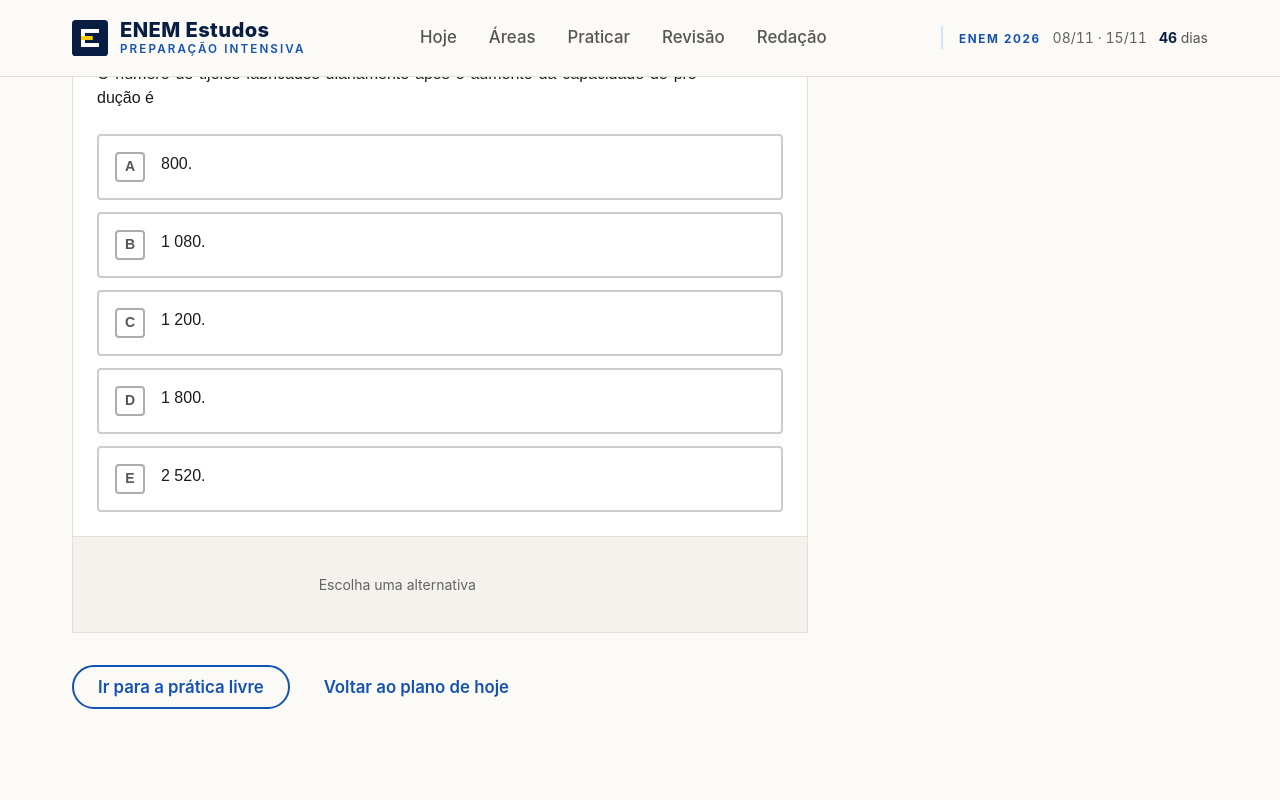
it: procedência do conteúdo › marca a questão oficial com o selo e mostra a referência da prova
(page scrolled)
Click the button named "Alternativa D" at (200, 396), box x1=97 y1=368 x2=783 y2=434
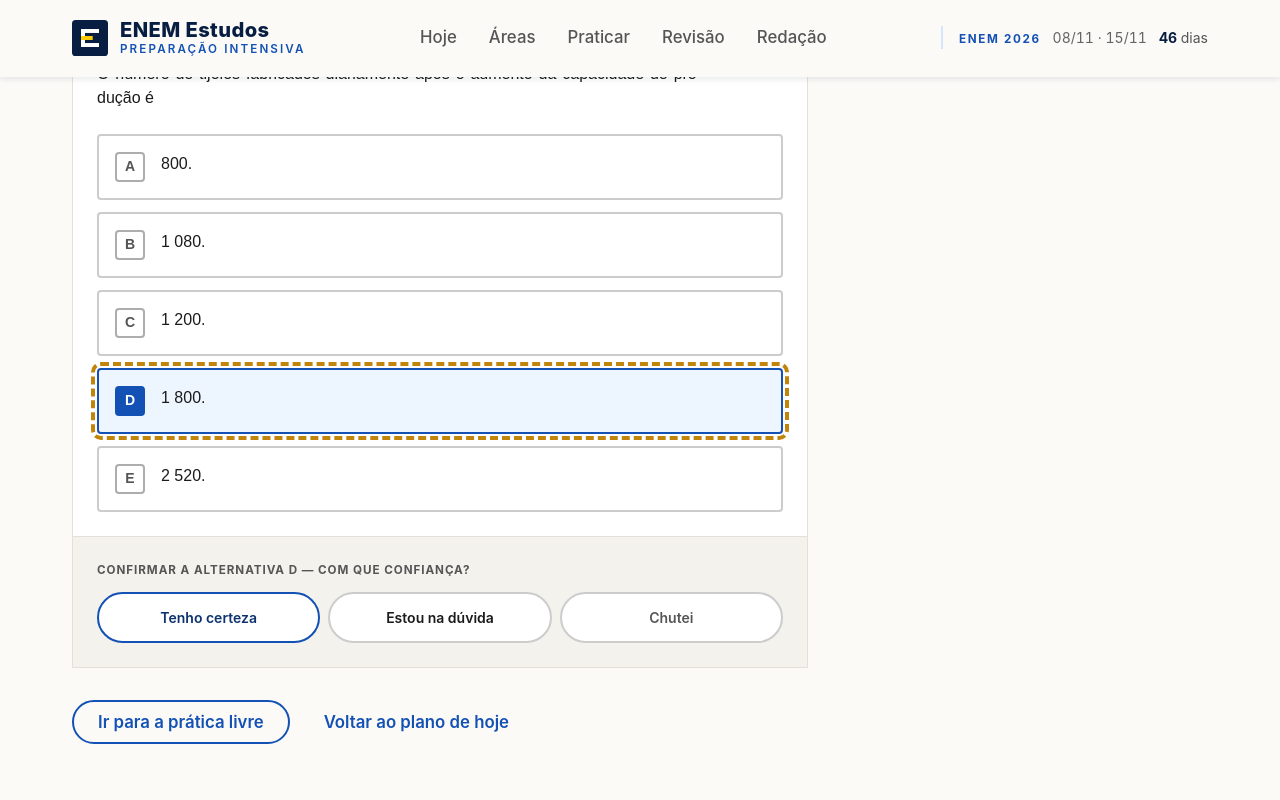
Click the button "Tenho certeza" at (209, 617), box x1=97 y1=592 x2=320 y2=643
(page scrolled)
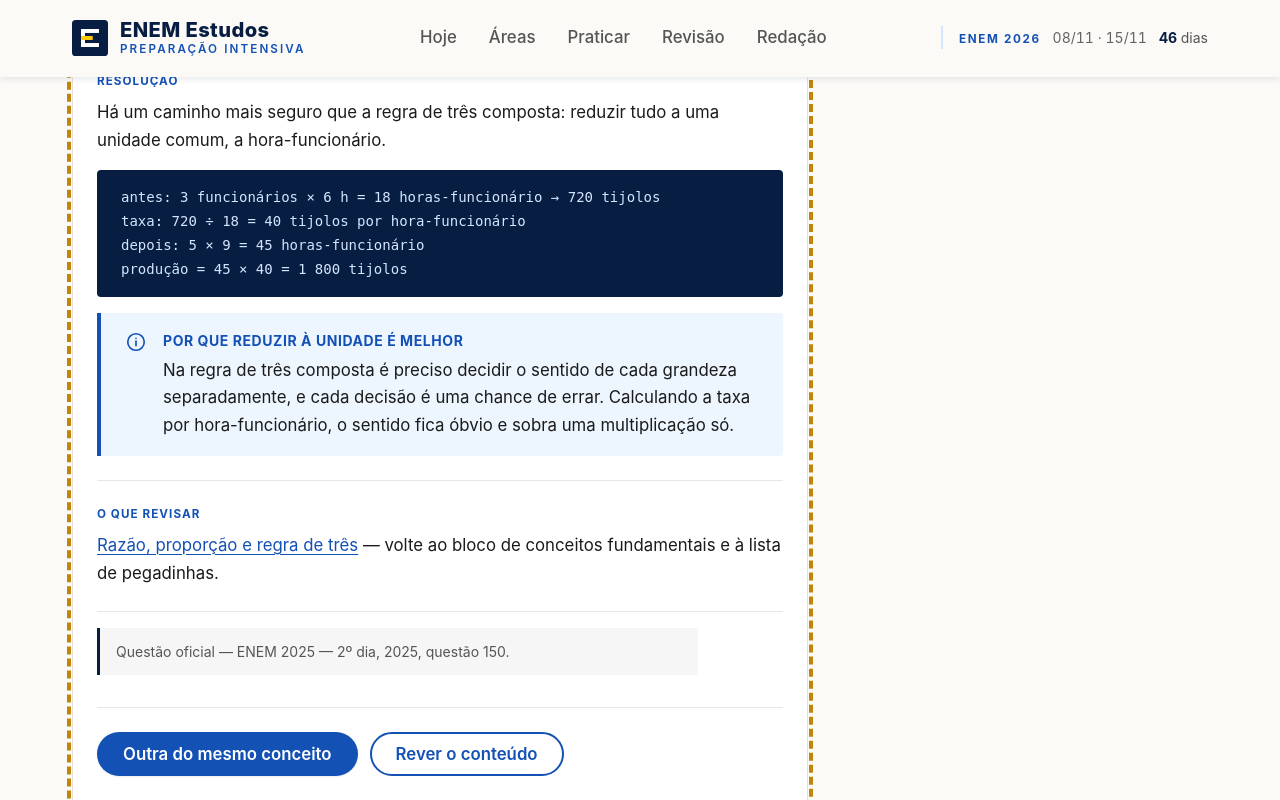
Expected: the text "Questão oficial — ENEM 2025 — 2º dia, 2025, questão 150." is shown, x1=97 y1=628 x2=698 y2=675
